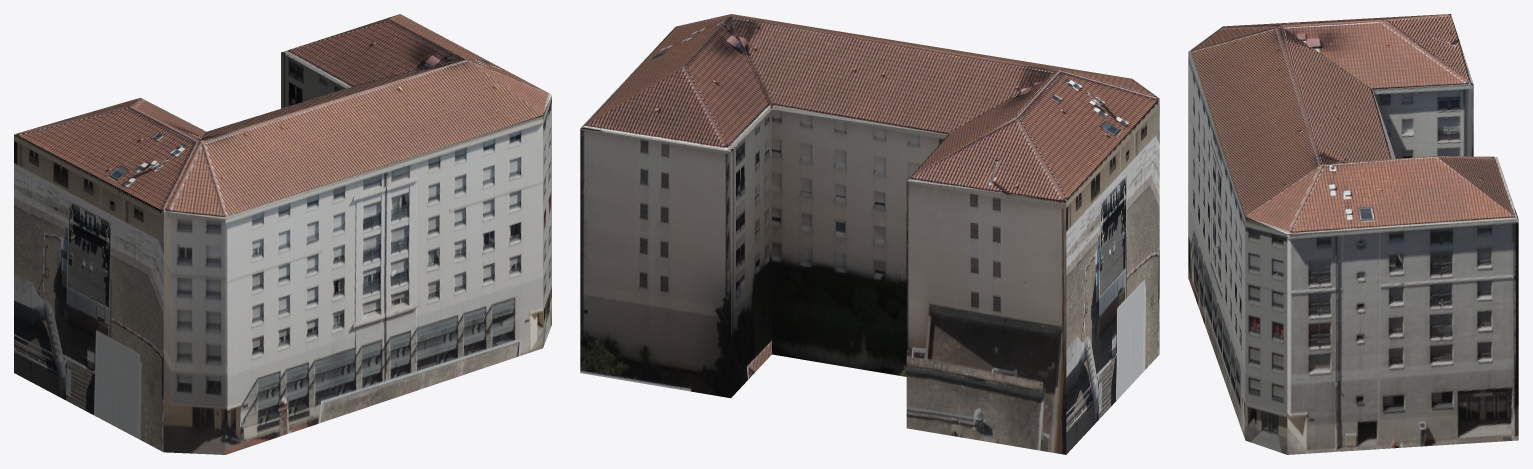
3 views of the same model, side by side, from view 1: azimuth 30°, elevation 25°; view 2: azimuth 150°, elevation 25°; view 3: azimuth 270°, elevation 25° (orthographic). The views are drawn at different scales.
Parts seen in each view (by area): view 1: Z_UP; view 2: Z_UP; view 3: Z_UP.
Part boxes in pixels (box(x1,y1,x2,y2)): Z_UP: box(14, 14, 551, 454); Z_UP: box(580, 14, 1159, 454); Z_UP: box(1188, 14, 1518, 454).
Size of the model in its own units: 39.52 by 22.82 by 26.04.
2 materials, 1 textured.
